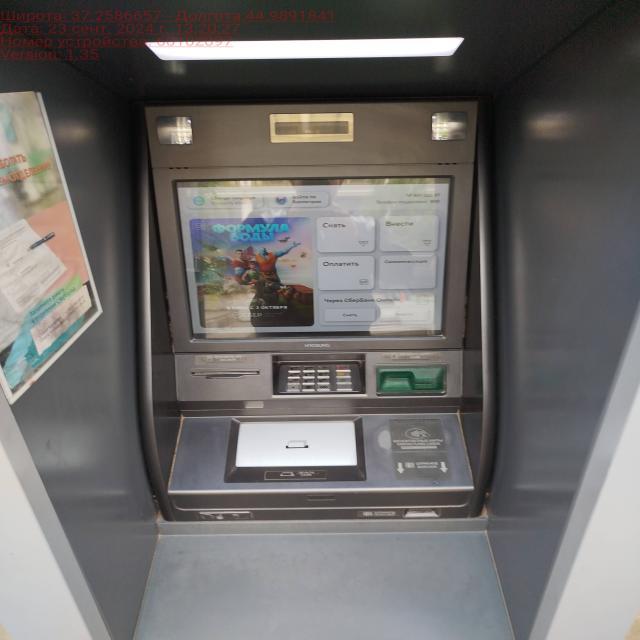bank: (81, 58, 537, 640)
